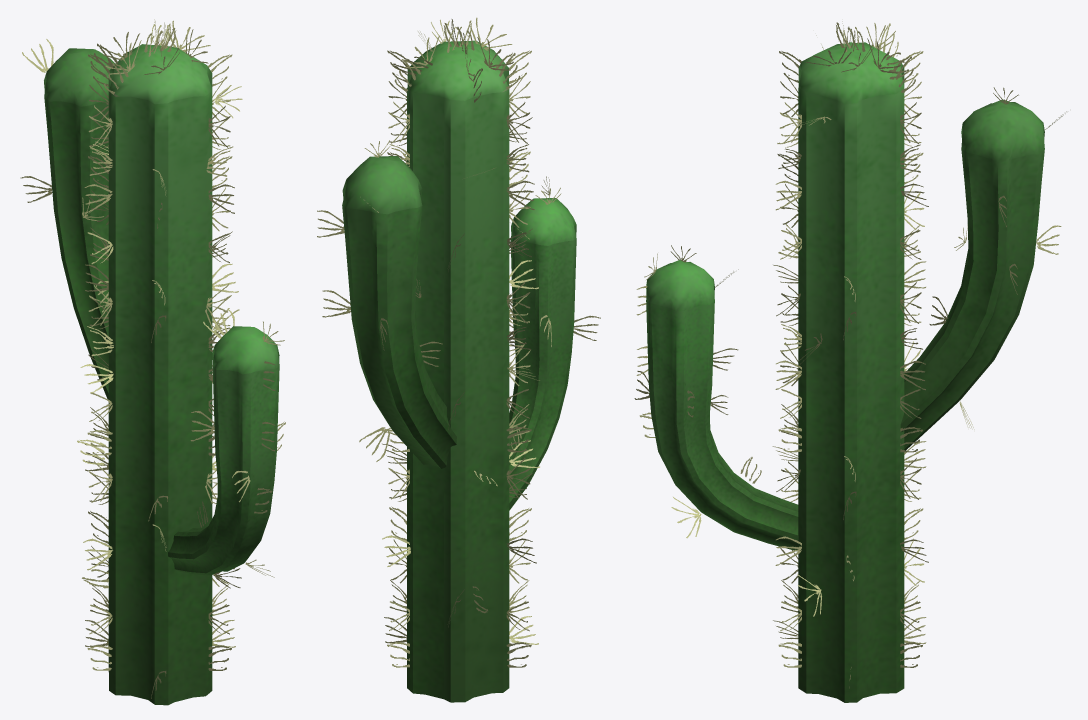
The model's file is cactus.fbx.
3 views of the same model, side by side, from view 1: azimuth 30°, elevation 25°; view 2: azimuth 150°, elevation 25°; view 3: azimuth 270°, elevation 25° (orthographic).
Visible parts, largest first — view 1: pCylinder5; view 2: pCylinder5; view 3: pCylinder5.
Part boxes in pixels (x1,y1,x2,y2): pCylinder5: (20,19,285,705); pCylinder5: (317,17,600,702); pCylinder5: (634,21,1066,702).
Bounding box in the file's own units: 2.72 × 11.09 × 6.76.
Materials: 1 (1 with a texture image).
